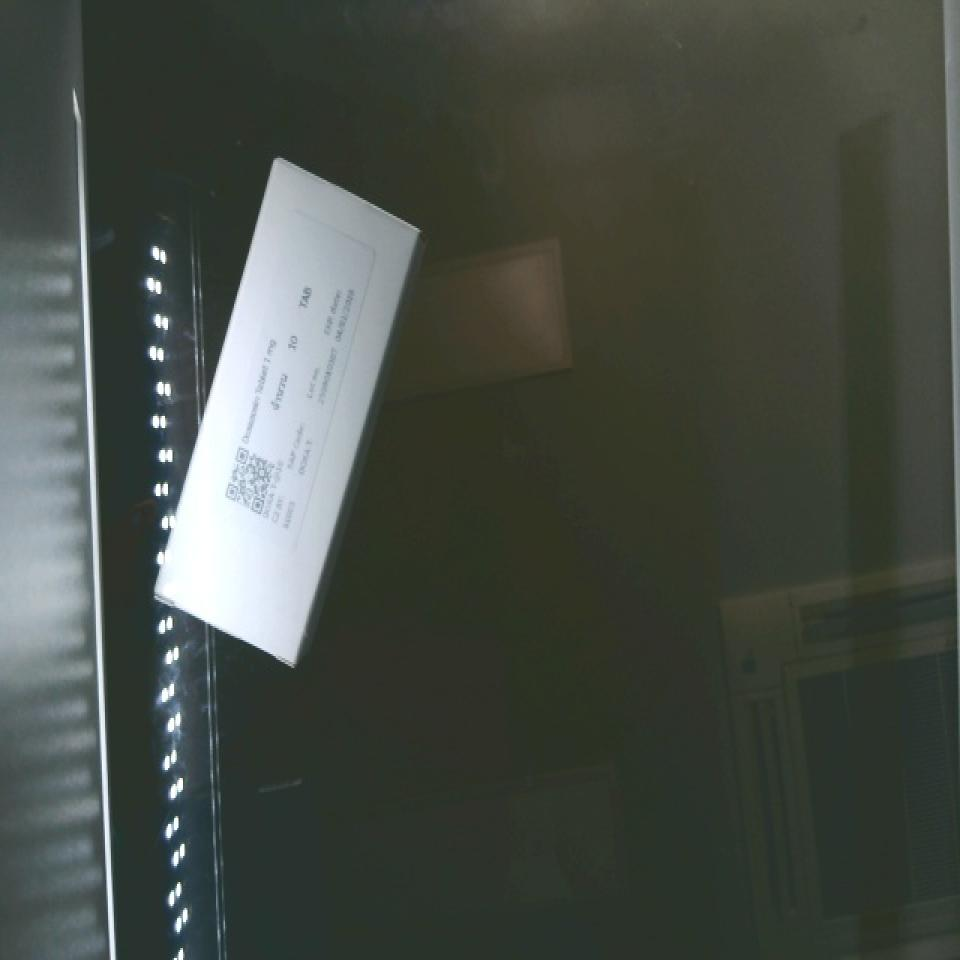medicine_box: (127, 152, 434, 667)
qr_code: (208, 428, 292, 534)
